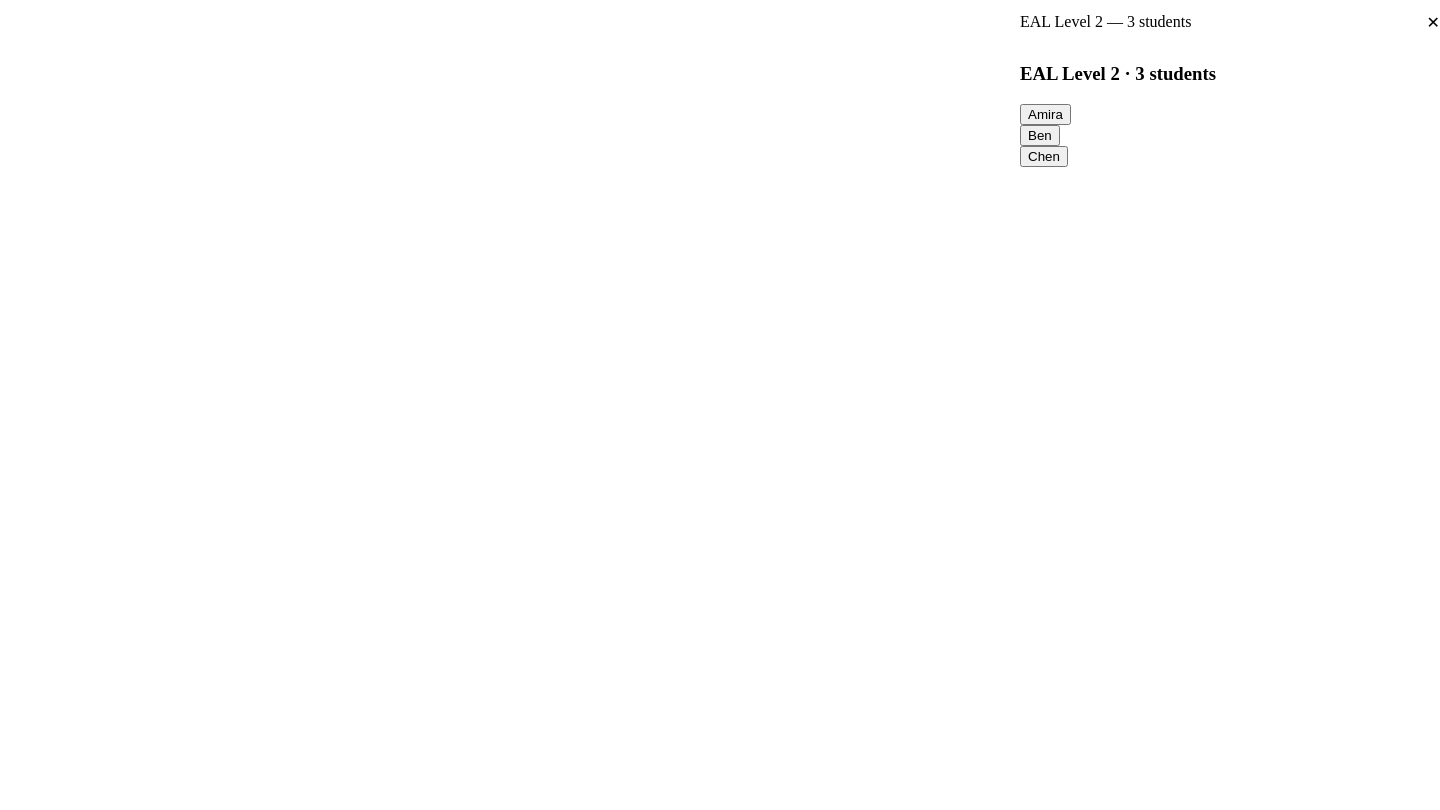
DrillDownDrawer — new context types › student-tag-group escalation: clicking a student alias renders StudentDetailView
Expected: the heading "EAL Level 2 — 3 students" is shown, [1020,13,1191,31]
Expected: the button "Ben" is shown, [1020,125,1060,146]
# Click first alias button — context escalates to student
Click the button "Amira" at [1045, 114], box [1020,104,1071,125]
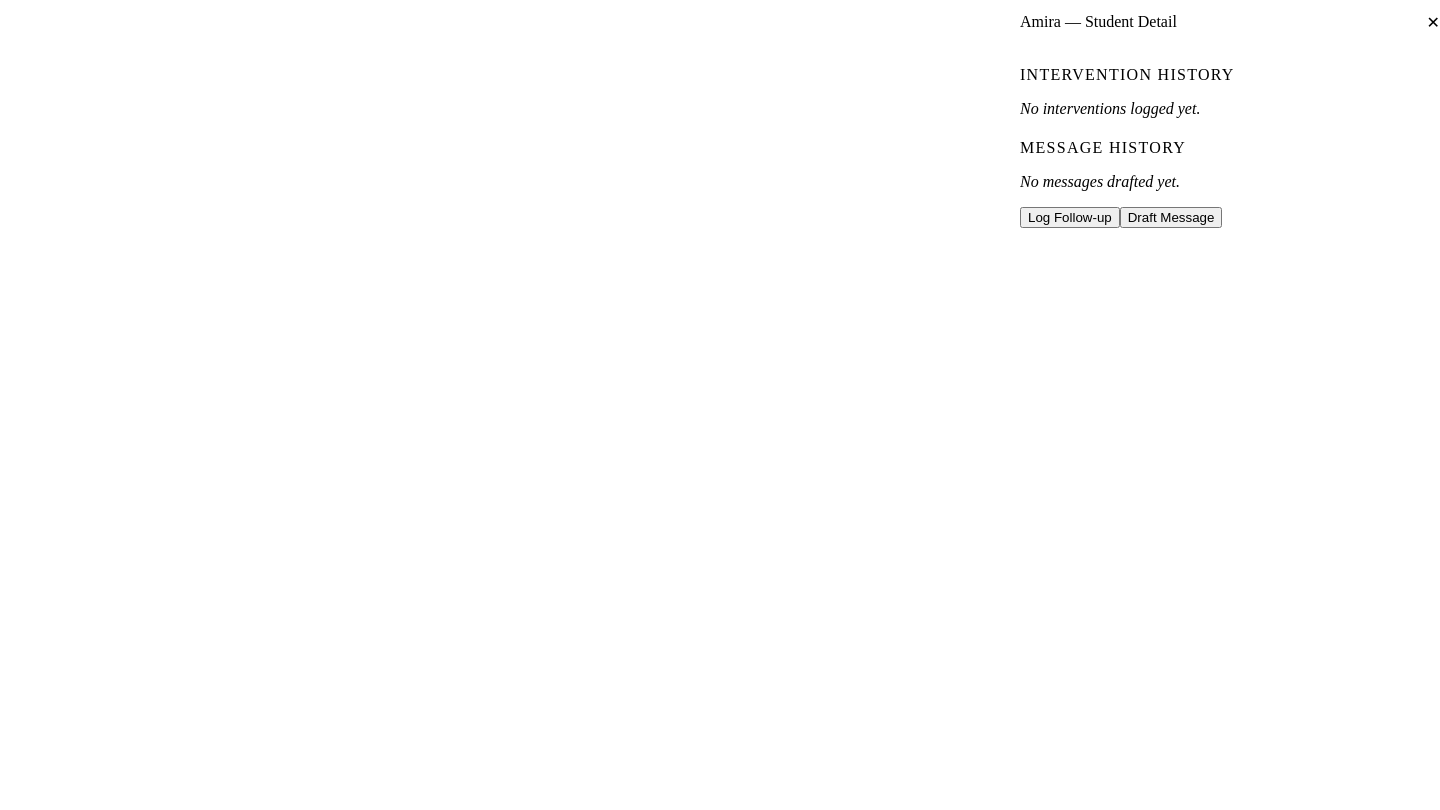
Result: the heading "Amira — Student Detail" is shown at [1020,13,1177,31]
